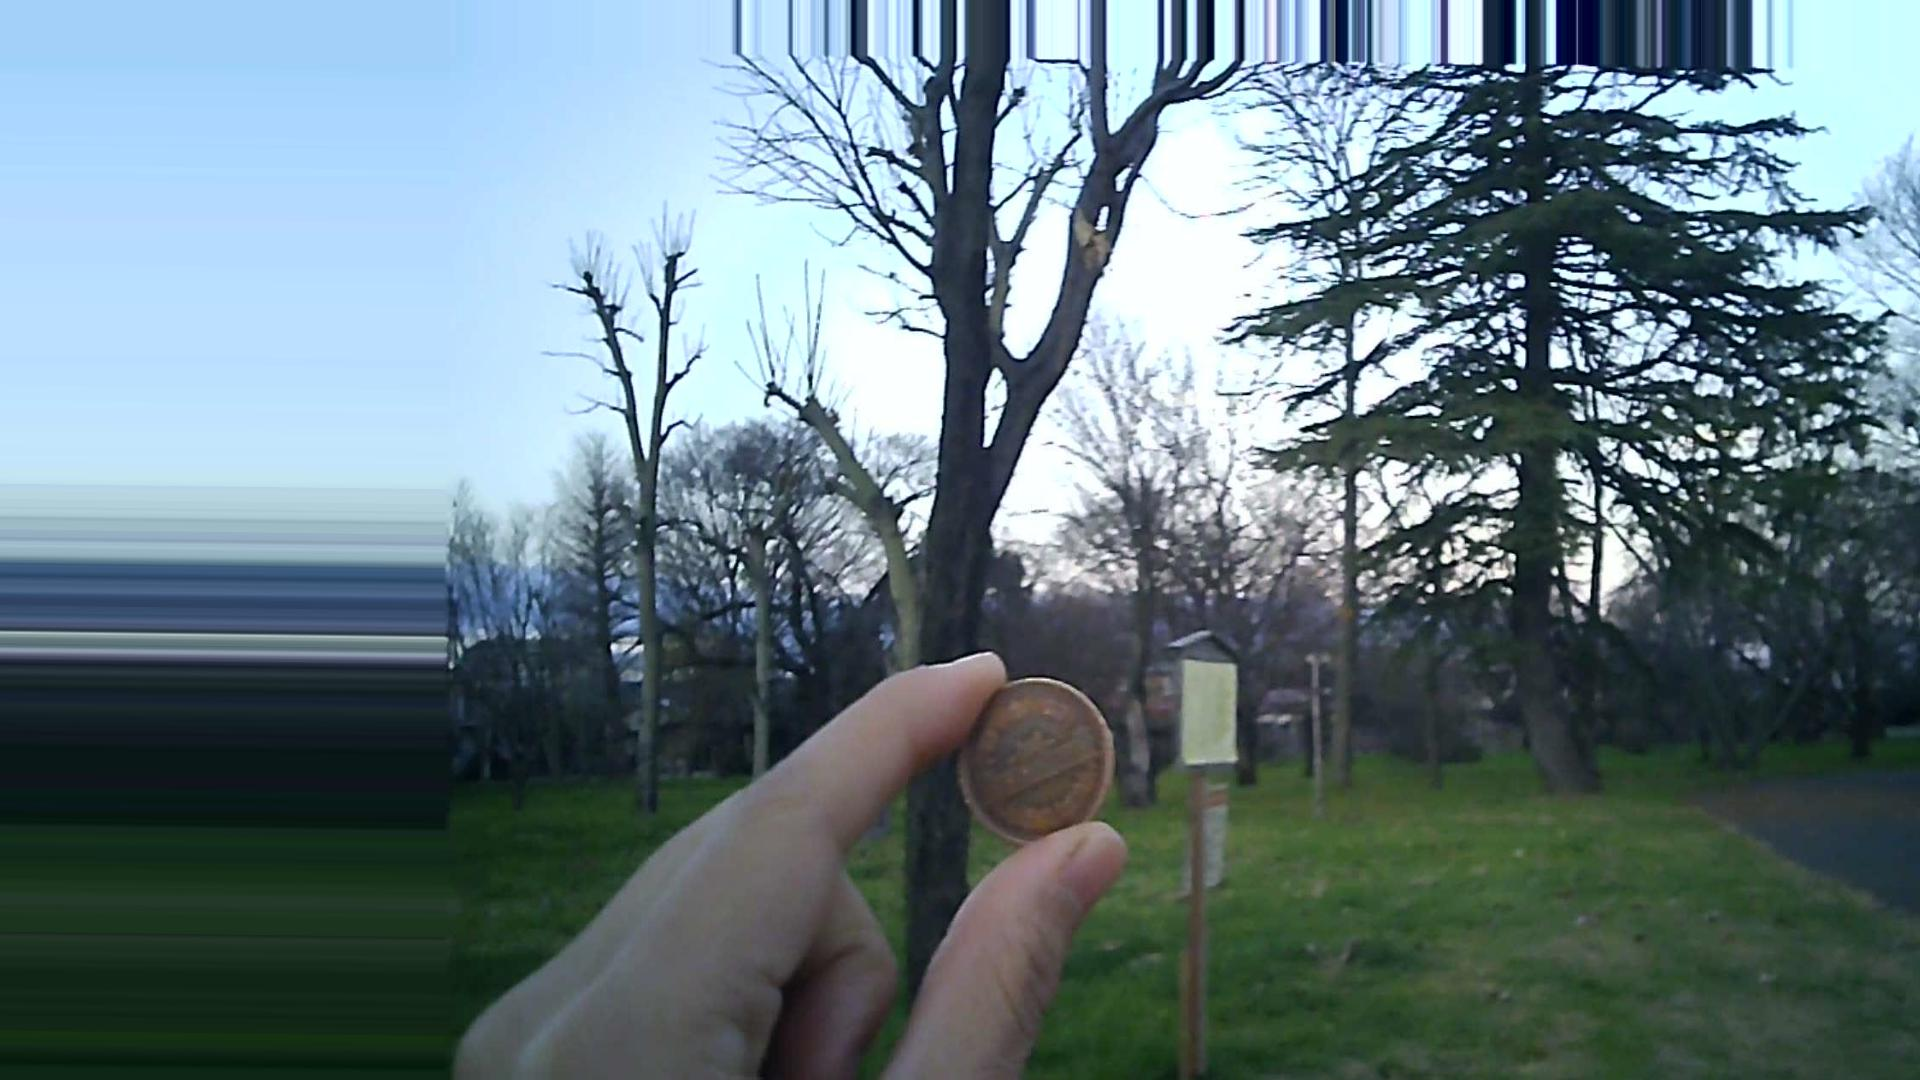10 Yen: (952, 659, 1108, 837)
